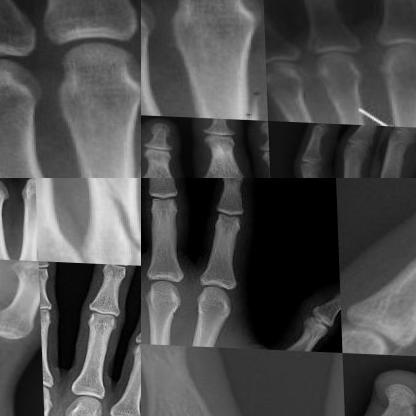fracture: (79, 178, 140, 254), (176, 87, 267, 119), (375, 377, 415, 415)
